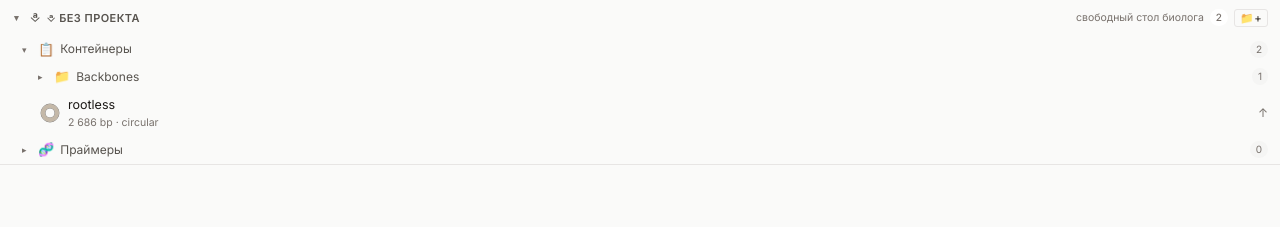
it: K2 — LooseZone (post 09.05.2026 structural sub-folders) › entries with matching folderPath nest inside that folder; rootless stay flat
What coordinates should you click on to do the following:
click the button with test id "tree-folder-loose-user-Backbones"
I would click on:
 (108, 76)
Its box is [0,63,1279,90].
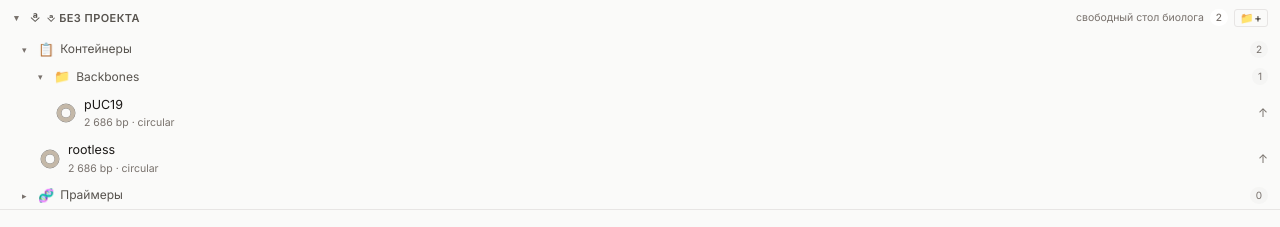
Expected: the button with test id "tree-item-loose-e2" is shown, [0,136,1279,182]
Now the button with test id "tree-item-loose-e1" is shown, box [0,90,1279,136]
